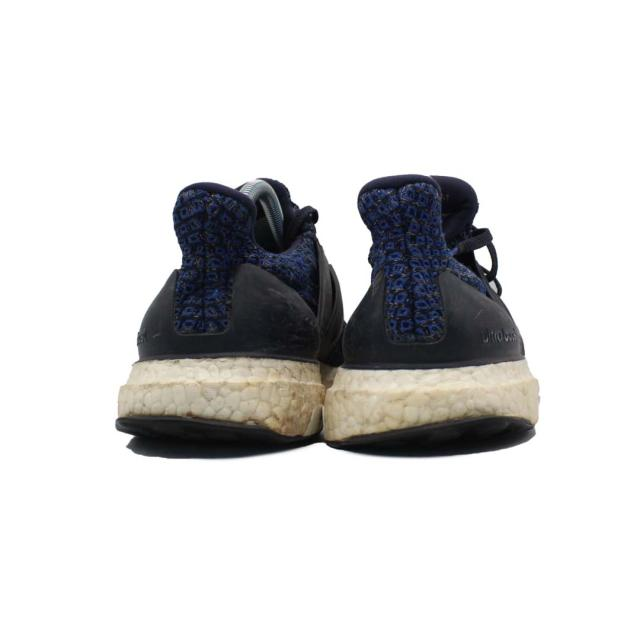heel: (335, 149, 525, 367), (127, 162, 313, 360)
midsole: (124, 359, 538, 452)
